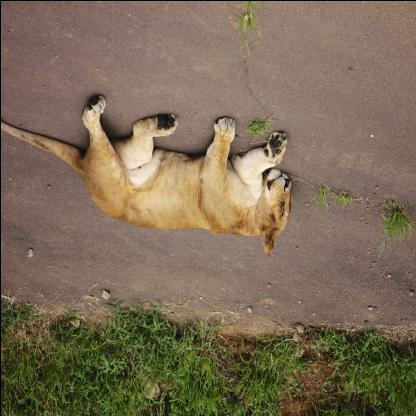lion: (256, 164, 298, 256)
